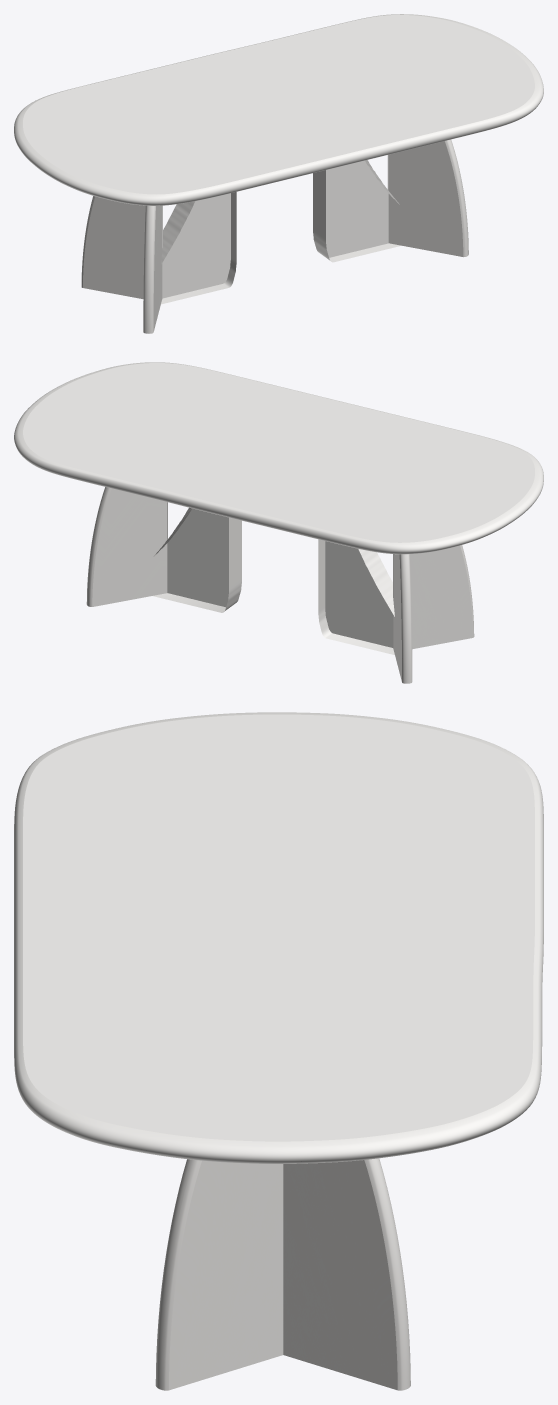
File: purewhite_oval_round_plane.glb
3 views of the same model, one above another, from view 1: azimuth 30°, elevation 25°; view 2: azimuth 150°, elevation 25°; view 3: azimuth 270°, elevation 25° (orthographic). The views are drawn at different scales.
Visible parts, largest first — view 1: round_oval, plane_singleright2, plane_single1, plane_single2, plane_singleleft1, plane_singleright1; view 2: round_oval, plane_singleleft2, plane_single1, plane_single2, plane_singleright1, plane_singleleft1; view 3: round_oval, plane_singleright2, plane_singleleft2.
Boxes of the visible parts, x1,y1,x2,y2 form: round_oval: (14,14,543,205); plane_singleright2: (388,139,468,257); plane_single1: (161,192,236,304); plane_single2: (313,160,400,262); plane_singleleft1: (81,196,162,299); plane_singleright1: (143,205,162,333); round_oval: (14,362,543,554); plane_singleleft2: (86,487,167,606); plane_single1: (318,539,394,654); plane_single2: (153,507,241,612); plane_singleright1: (393,545,474,649); plane_singleleft1: (393,554,412,683); round_oval: (14,712,543,1163); plane_singleright2: (155,1159,283,1390); plane_singleleft2: (283,1158,410,1390).
Bounding box in the file's own units: 7.5 × 2.49 × 3.8.
1 material, 1 textured.
